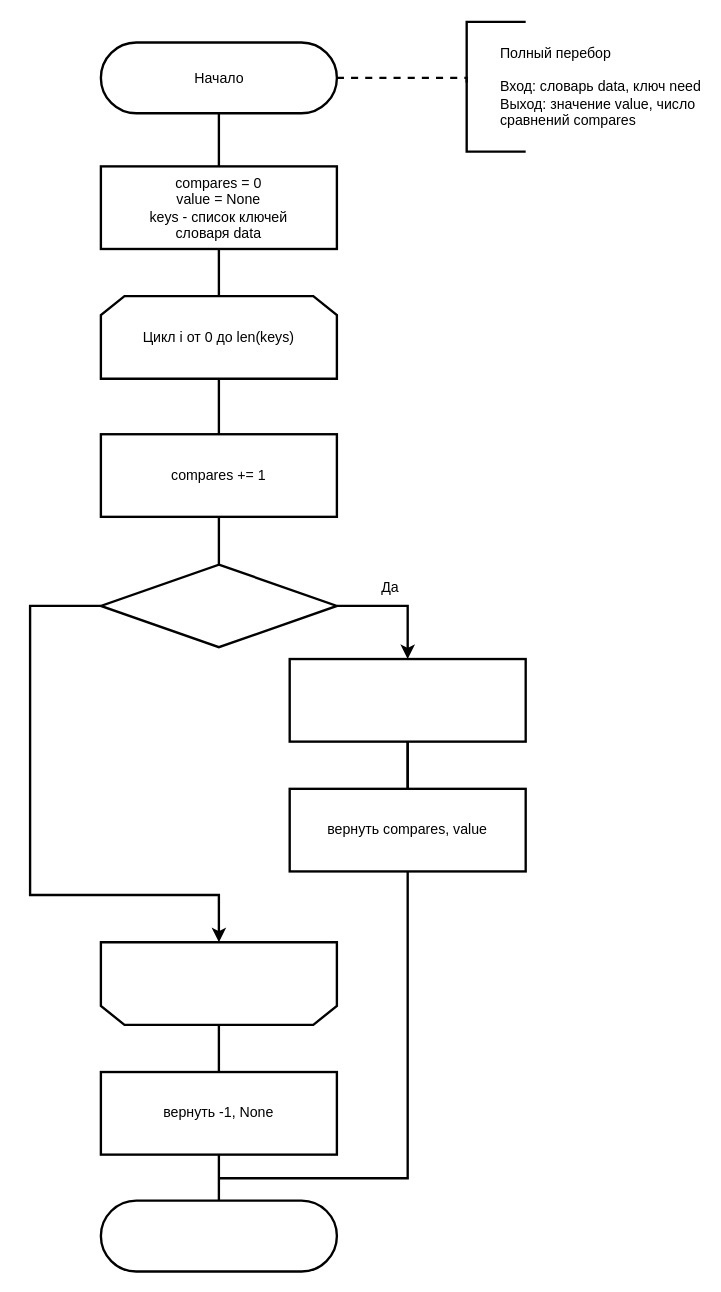
The diagram is 721 pixels wide and 1292 high, and some of its shapes have lost their labels. The centre of each missing label's shape, as x and y in pixels:
"i += 1" goes at point (218, 982).
"keys[i] == need ?" goes at point (218, 605).
"value = data[keys[i]]" goes at point (407, 699).
"Конец" goes at point (218, 1235).
